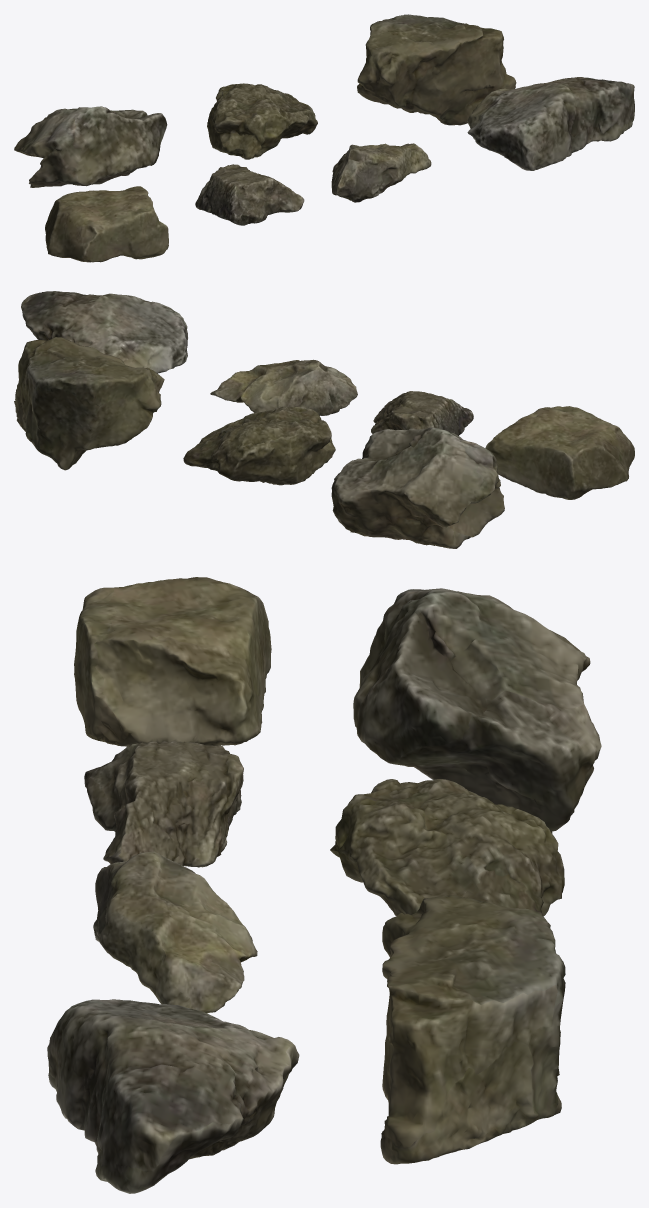
File: rock_moss_set_02.glb
The picture shows the model from 3 angles, top to bottom: view 1: azimuth 30°, elevation 25°; view 2: azimuth 150°, elevation 25°; view 3: azimuth 270°, elevation 25°; orthographic projection. The views are drawn at different scales.
Parts seen in each view (by area): view 1: rock_moss_set_02_rock08; view 2: rock_moss_set_02_rock08; view 3: rock_moss_set_02_rock08.
Boxes of the visible parts, x1,y1,x2,y2 form: rock_moss_set_02_rock08: [14, 14, 634, 262]; rock_moss_set_02_rock08: [14, 291, 634, 548]; rock_moss_set_02_rock08: [47, 577, 601, 1193].
Bounding box in the file's own units: 8.28 × 1.37 × 3.41.
Materials: 1 (1 with a texture image).
